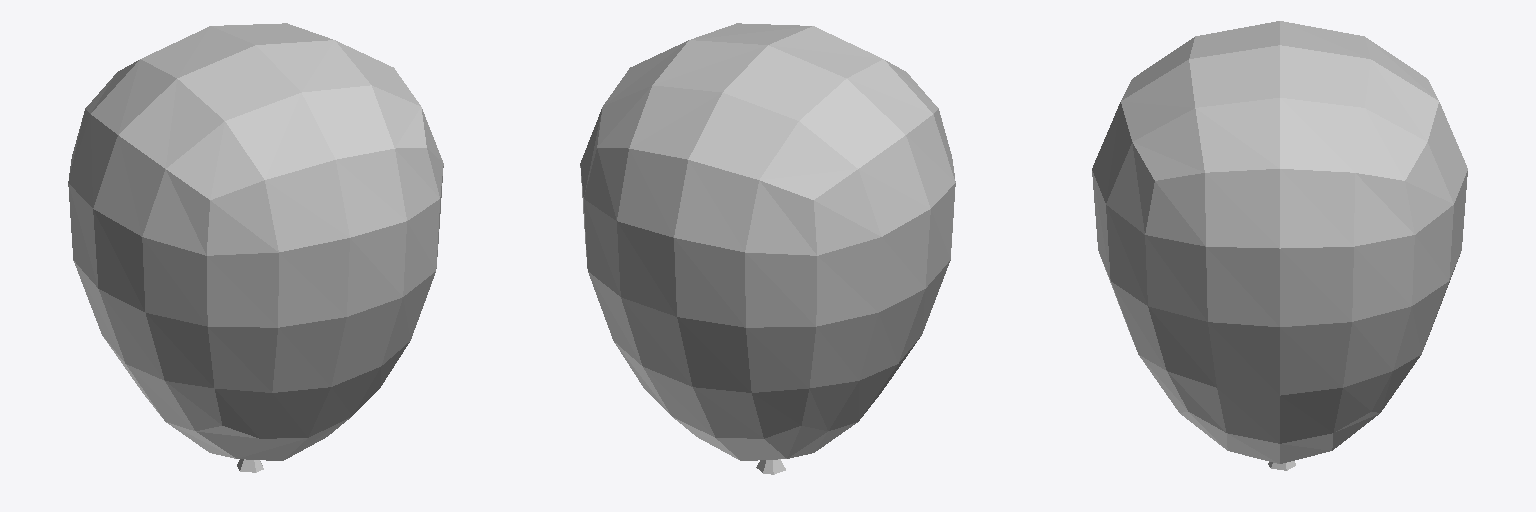
File: baloon2_lp.obj
3 renders of one model, left to right at view 1: azimuth 30°, elevation 25°; view 2: azimuth 150°, elevation 25°; view 3: azimuth 270°, elevation 25°, orthographic.
Parts seen in each view (by area): view 1: Cube.002; view 2: Cube.002; view 3: Cube.002.
Boxes of the visible parts, x1=… form: Cube.002: x1=68, y1=23, x2=443, y2=460; Cube.002: x1=580, y1=23, x2=955, y2=460; Cube.002: x1=1092, y1=21, x2=1467, y2=463.
Size of the model in its own units: 1.19 by 1.47 by 1.19.